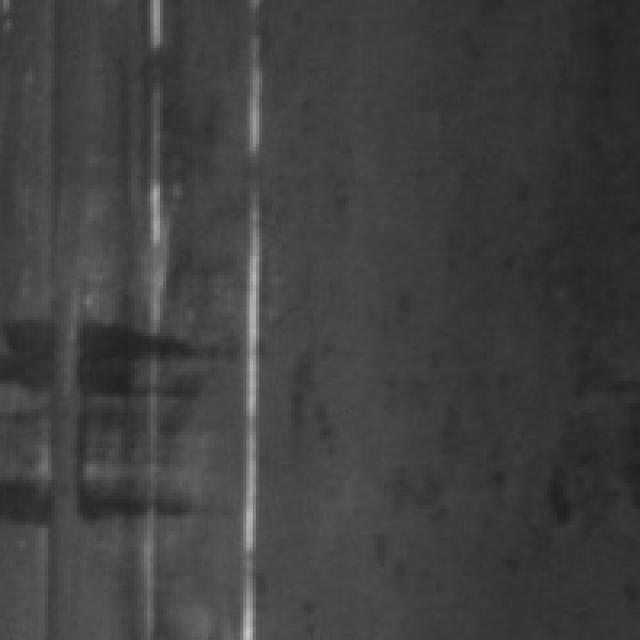inclusion: (0, 316, 166, 521), (35, 0, 77, 288)
scratches: (118, 9, 176, 586), (224, 32, 266, 634)
